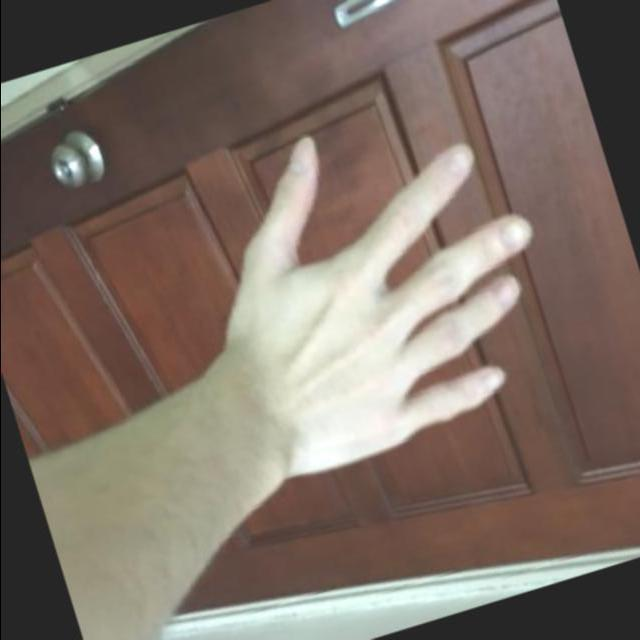Hand: (215, 130, 535, 480)
